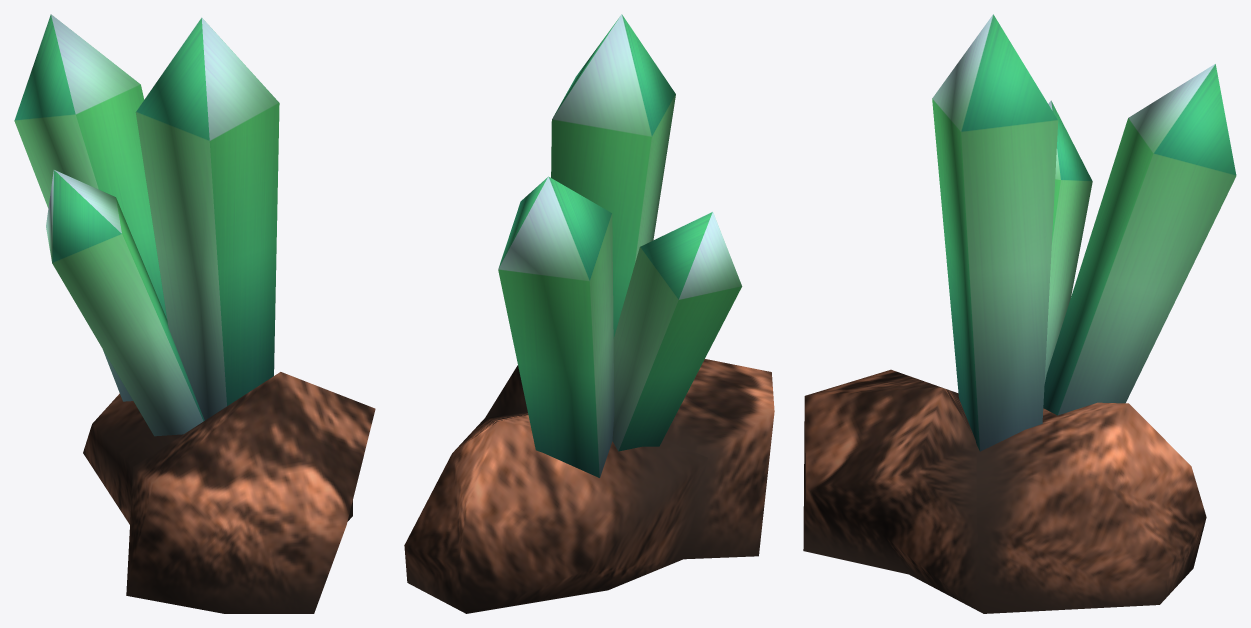
File: object_quartz_02.fbx
3 renders of one model, left to right at view 1: azimuth 30°, elevation 25°; view 2: azimuth 150°, elevation 25°; view 3: azimuth 270°, elevation 25°, orthographic.
Parts seen in each view (by area): view 1: object_quartz_02; view 2: object_quartz_02; view 3: object_quartz_02.
Boxes of the visible parts, <box> form: object_quartz_02: <box>14,14,375,613</box>; object_quartz_02: <box>404,14,774,613</box>; object_quartz_02: <box>803,14,1236,613</box>.
Size of the model in its own units: 11.18 by 20.2 by 15.
